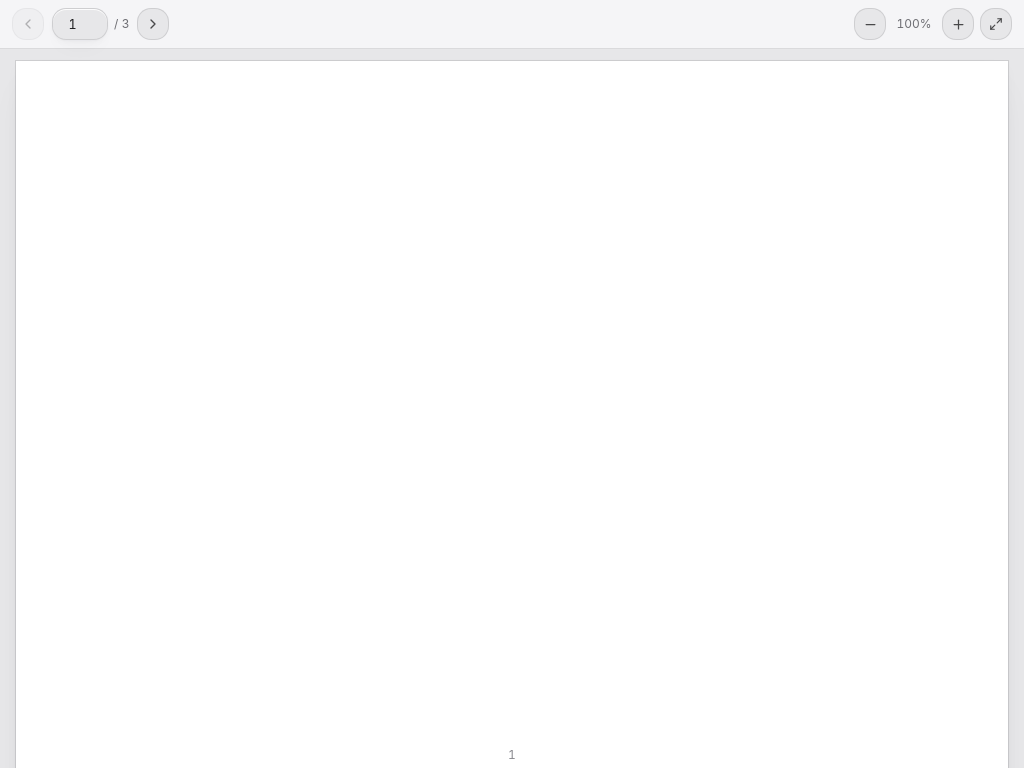
it: PdfPageViewer › pages with the keyboard and zooms
This screenshot has width=1024, height=768.
Press PageDown in the element named "Paginile cărții"
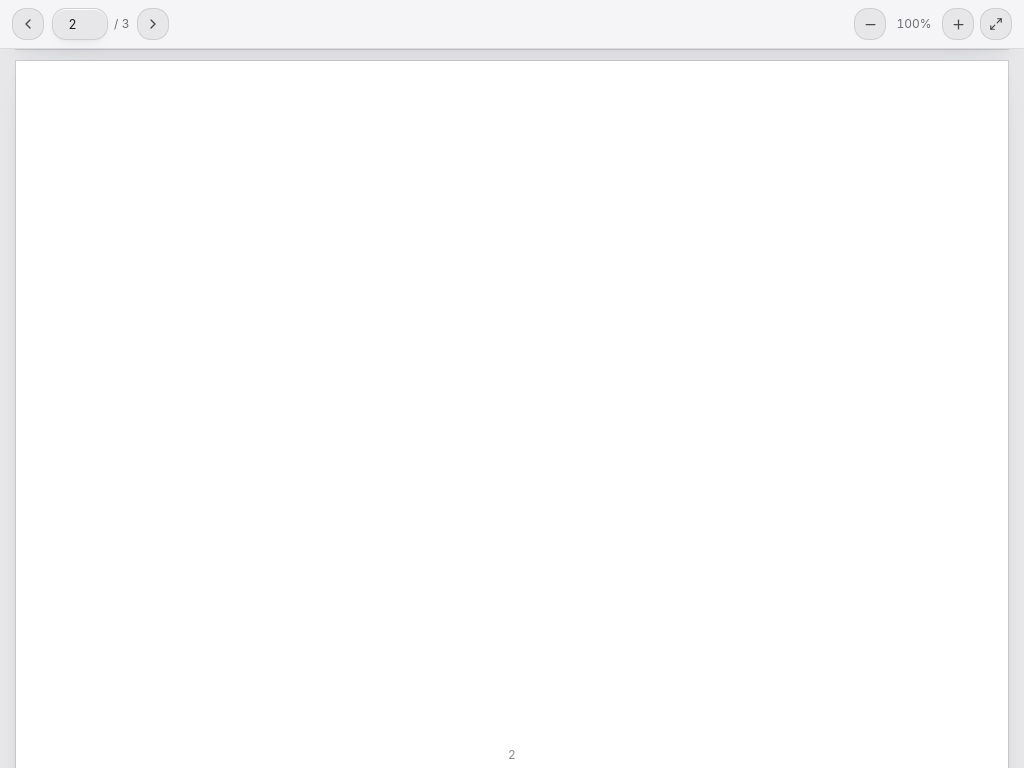
Expected: the number field named "Salt la pagina" holds "2", [52,8,108,40]
Press PageUp in the element named "Paginile cărții"
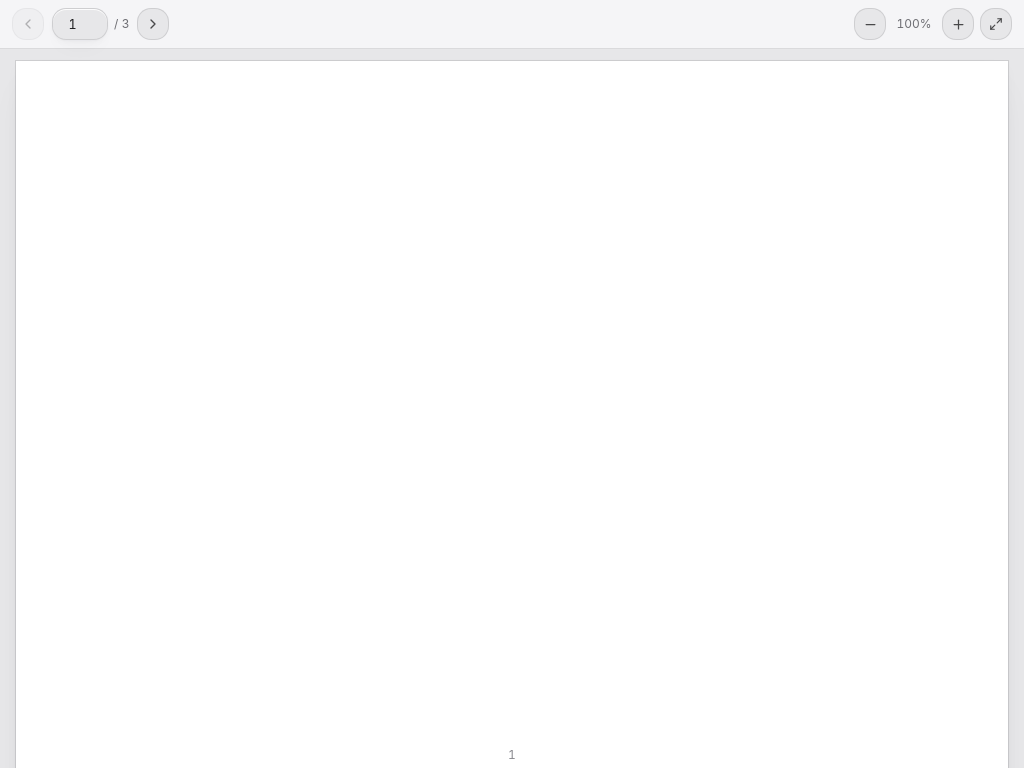
Expected: the number field named "Salt la pagina" holds "1", [52,8,108,40]
Click the button named "Mărește".
click(958, 24)  # box [942,8,974,40]
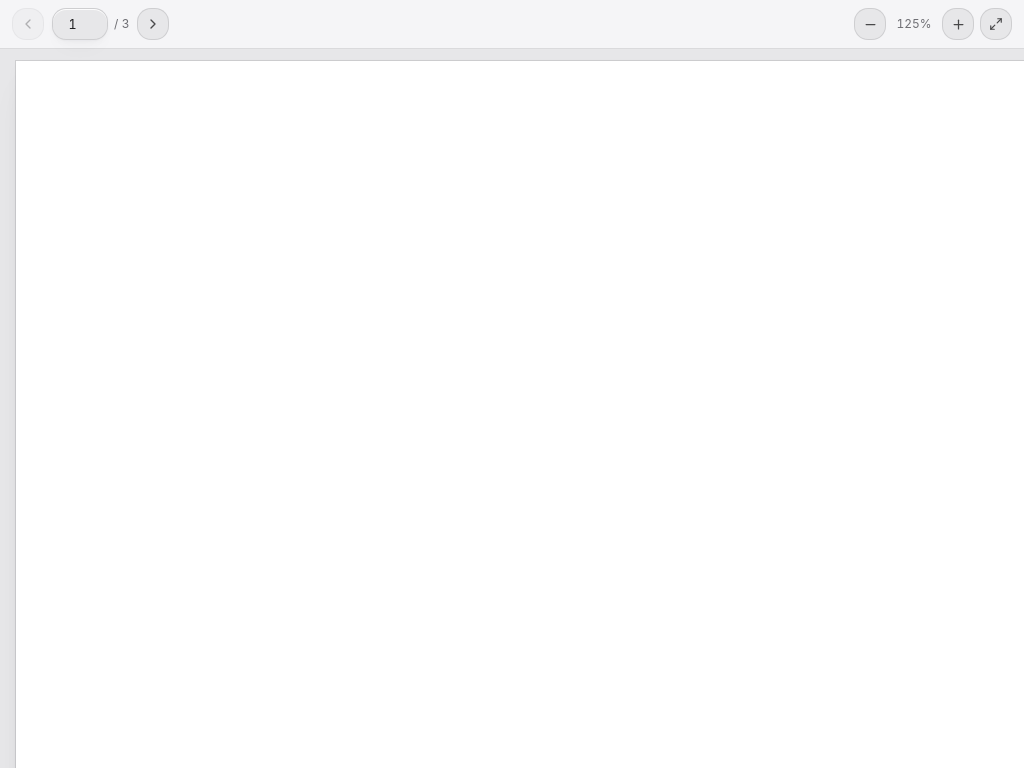
Expected: the text "125%" is shown, [896,16,932,31]
Click the button named "Potrivește pe lățime".
click(996, 24)  # box [980,8,1012,40]
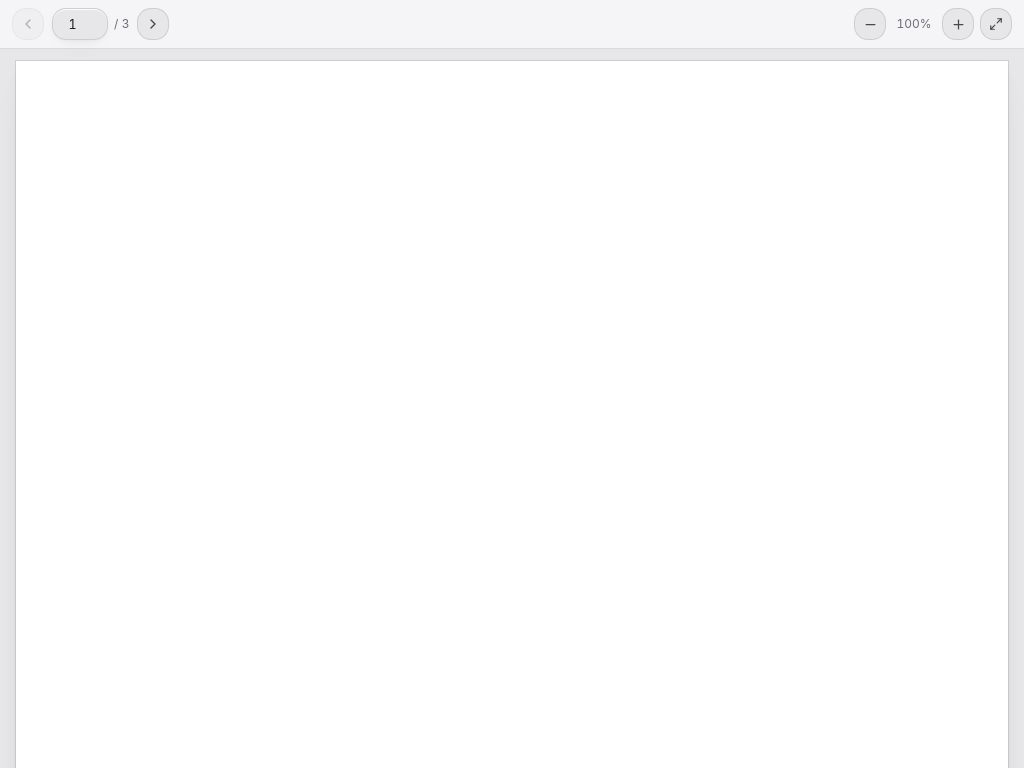
Expected: the text "100%" is shown, [896,16,932,31]
